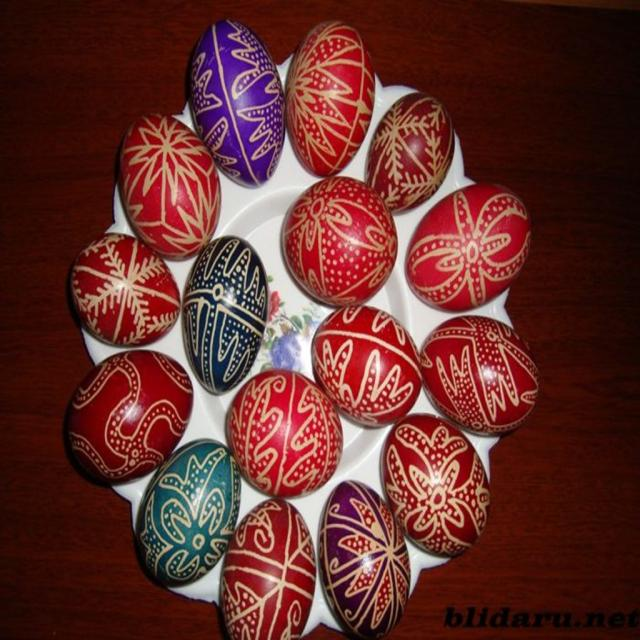Egg: (66, 350, 193, 486), (132, 437, 240, 591), (404, 181, 529, 314), (379, 410, 491, 558), (190, 15, 283, 183), (224, 368, 341, 497), (422, 312, 543, 435), (218, 488, 316, 637), (120, 116, 223, 257), (281, 178, 396, 304), (179, 232, 267, 396), (320, 480, 410, 639), (310, 303, 425, 427), (285, 20, 373, 180), (70, 230, 180, 348), (366, 91, 452, 212)
